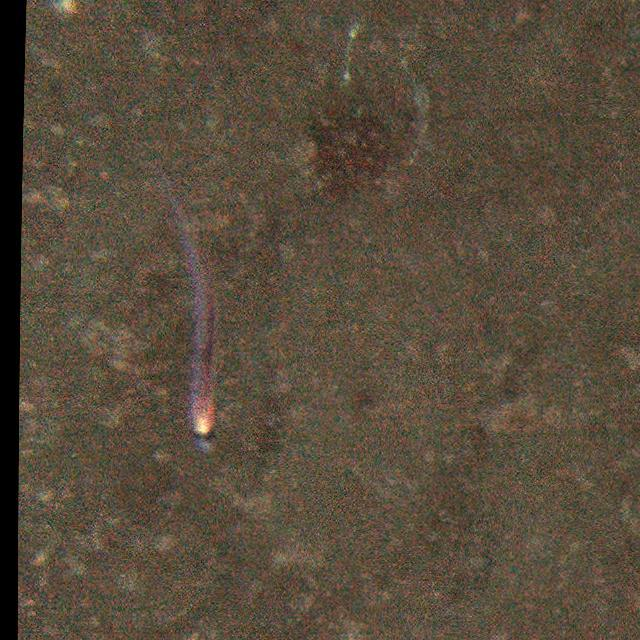roundfish: (158, 177, 230, 457)
